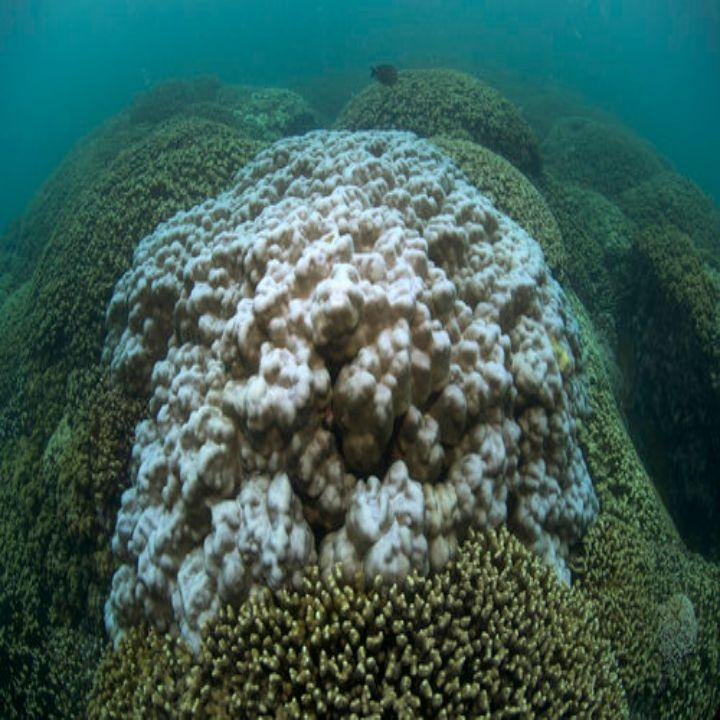Bleached-disease: (56, 105, 608, 654)
